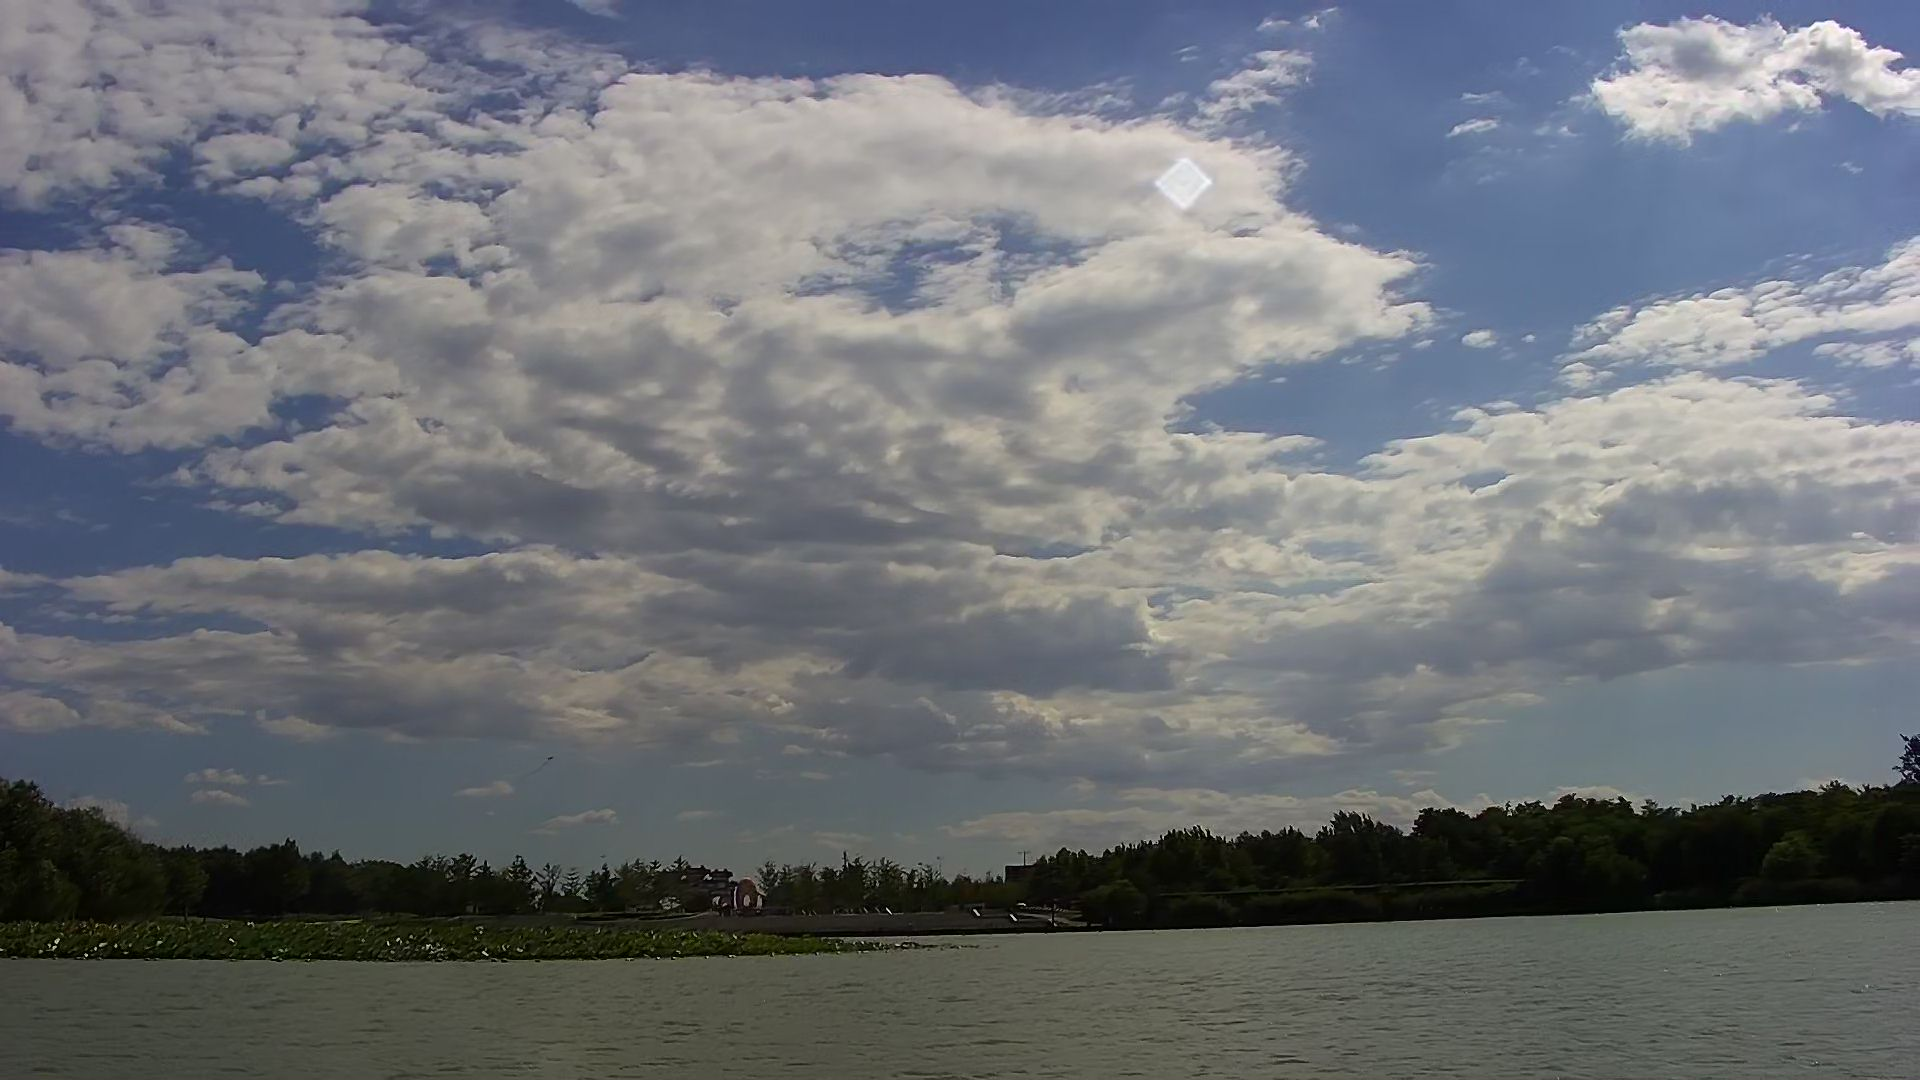grass: (7, 916, 960, 964)
